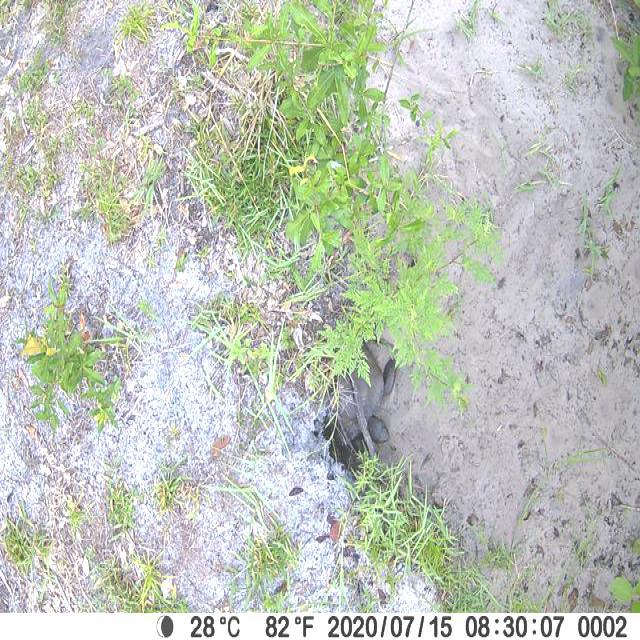tortoise: (319, 333, 396, 451)
